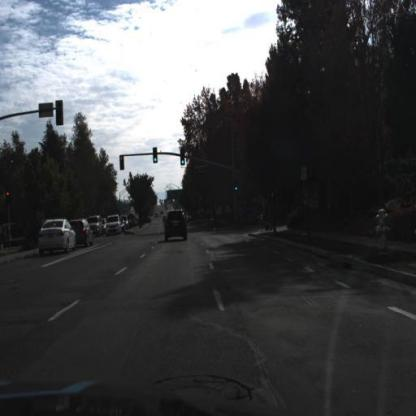biker: (266, 205, 271, 232), (238, 209, 244, 229)
car: (35, 217, 79, 259), (162, 206, 193, 243), (73, 217, 94, 250), (88, 216, 104, 240), (106, 216, 122, 238)
trafficLight-Green: (179, 145, 189, 171), (151, 146, 161, 167), (233, 178, 241, 199), (233, 177, 240, 196)
trafficLight-RedLeft: (119, 152, 128, 175)
